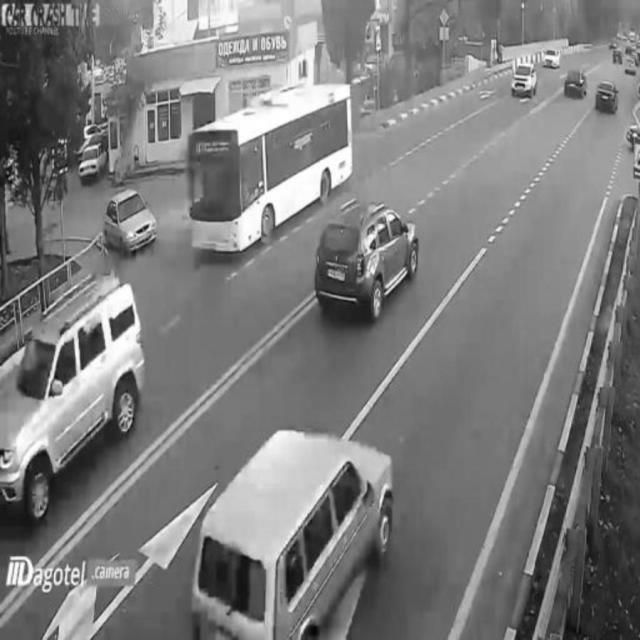vehicle: (200, 425, 394, 633), (0, 279, 139, 510), (192, 79, 348, 259), (316, 204, 417, 325), (102, 185, 160, 253), (77, 140, 109, 185), (511, 54, 537, 101), (595, 77, 619, 114), (565, 63, 587, 103), (540, 37, 558, 72), (623, 48, 638, 76)
